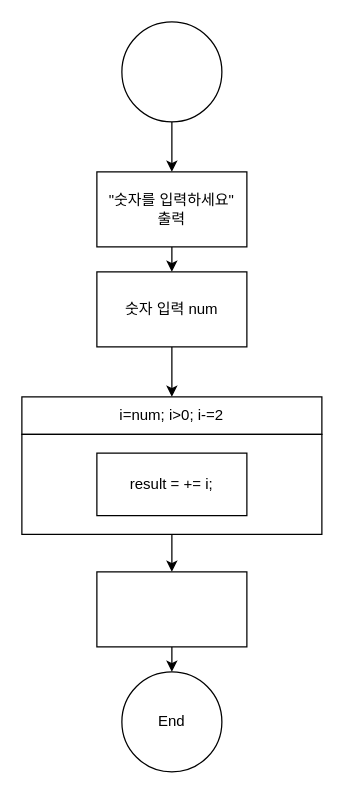
This 344x794 diagram has some shape labels left out. The centre of each missing label's shape, as x and y in pixels:
"결과값 : " +result 출력: point 171,609
Start: point 171,71
